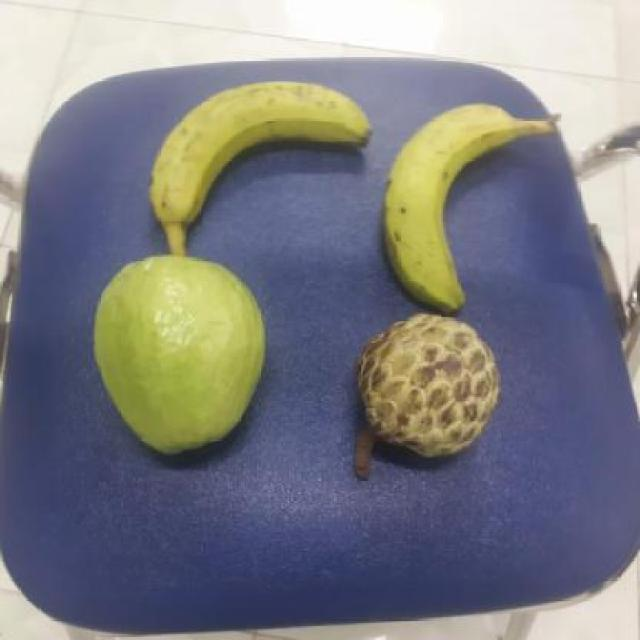banana: (145, 69, 373, 228), (372, 94, 520, 314)
guava: (91, 256, 271, 456)
sugar apple: (345, 311, 504, 464)
